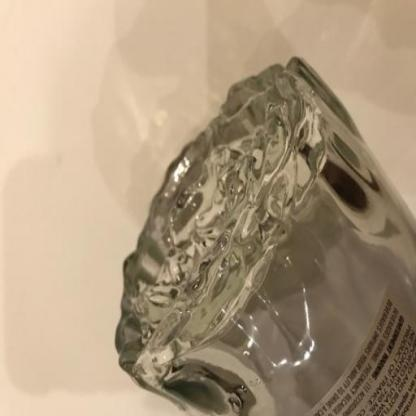trash: (112, 51, 415, 416)
